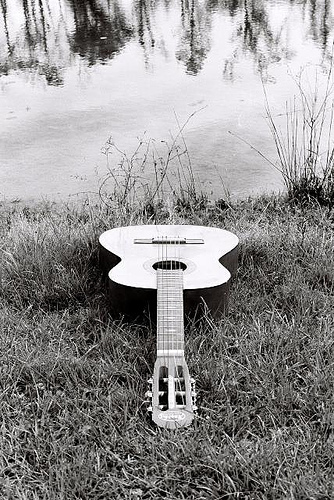guitar: (96, 222, 244, 436)
